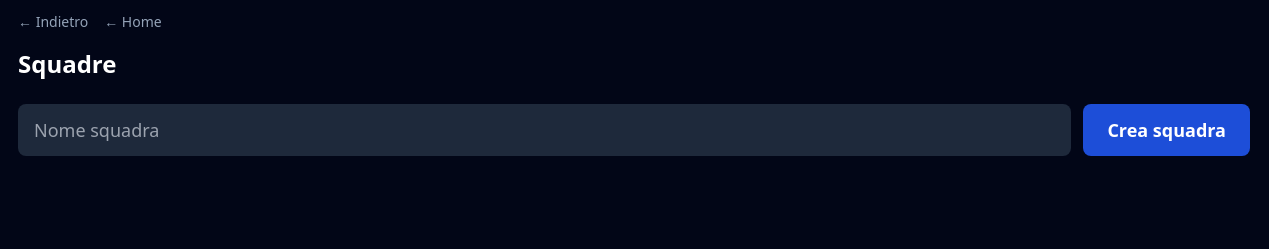
Test: TeamListPage › crea una squadra e la mostra nella lista
The width and height of the screenshot is (1269, 249).
Type "Volley Rossi" into the field with placeholder "Nome squadra". click: (545, 130)
box: [18, 104, 1071, 156]
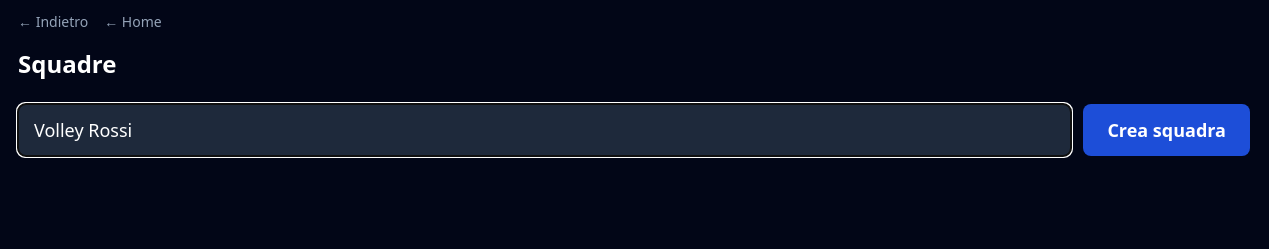
Click the button "Crea squadra". click: (1167, 130)
box: [1083, 104, 1250, 156]
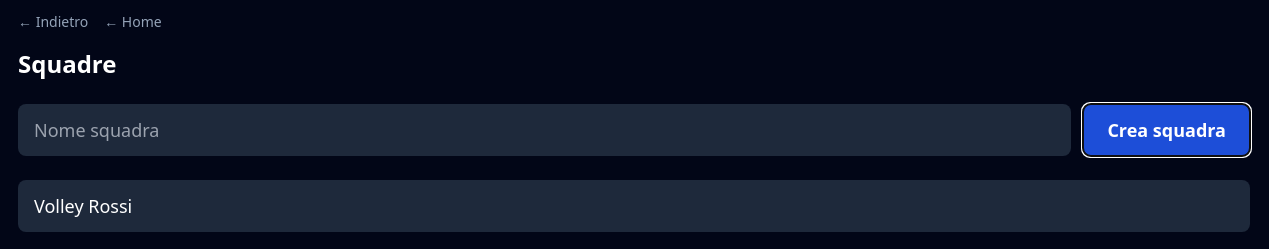
Check: the link "Volley Rossi" is shown, box [18, 180, 1250, 232]
